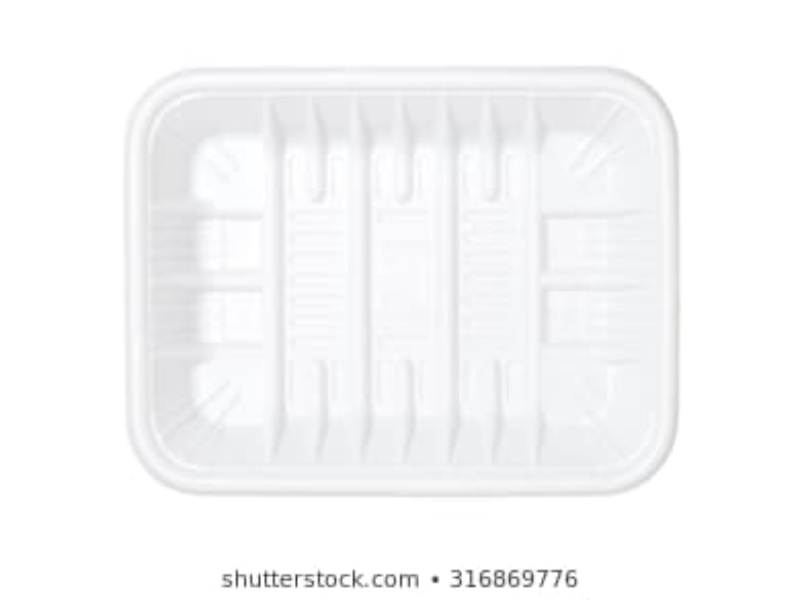plastic-tray: (115, 55, 697, 502)
